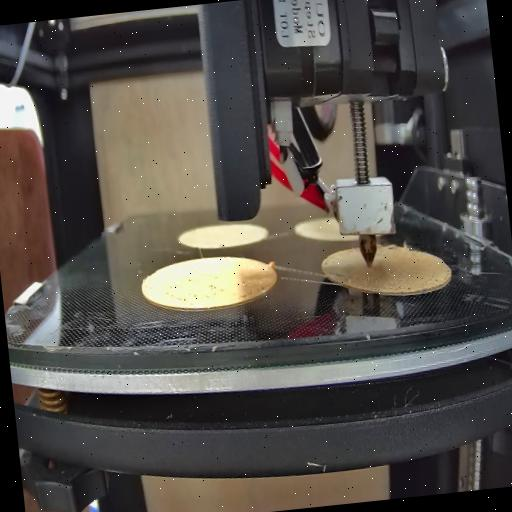under_extrusion: (162, 269, 228, 312), (404, 260, 444, 292), (239, 279, 270, 299), (326, 261, 349, 284)
